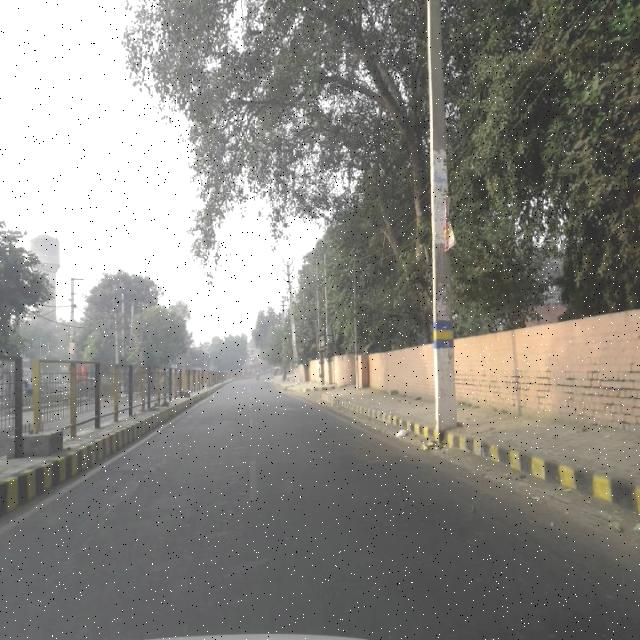D44: (243, 456, 264, 513)
